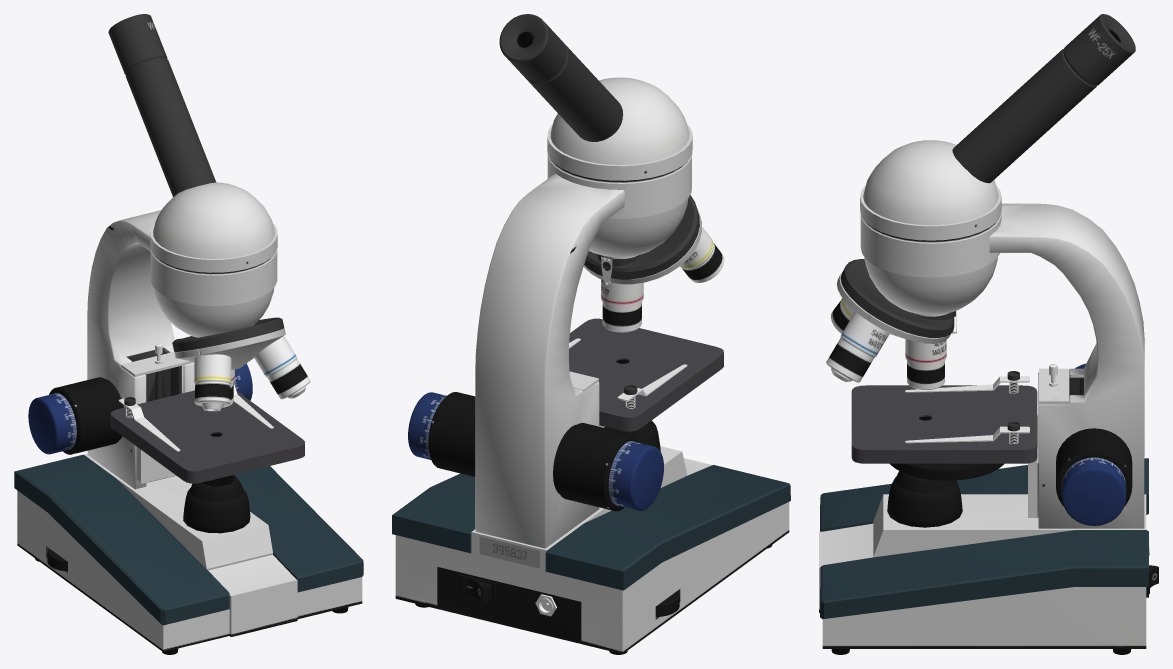
File: microscope.glb
3 renders of one model, left to right at view 1: azimuth 30°, elevation 25°; view 2: azimuth 150°, elevation 25°; view 3: azimuth 270°, elevation 25°, orthographic. The views are drawn at different scales.
Parts seen in each view (by area): view 1: Microscope; view 2: Microscope; view 3: Microscope.
Part boxes in pixels (x1,y1,x2,y2): Microscope: (14, 14, 363, 654); Microscope: (392, 14, 790, 654); Microscope: (819, 14, 1158, 654).
Bounding box in the file's own units: 0.1346 × 0.3273 × 0.1715.
1 material, 1 textured.
